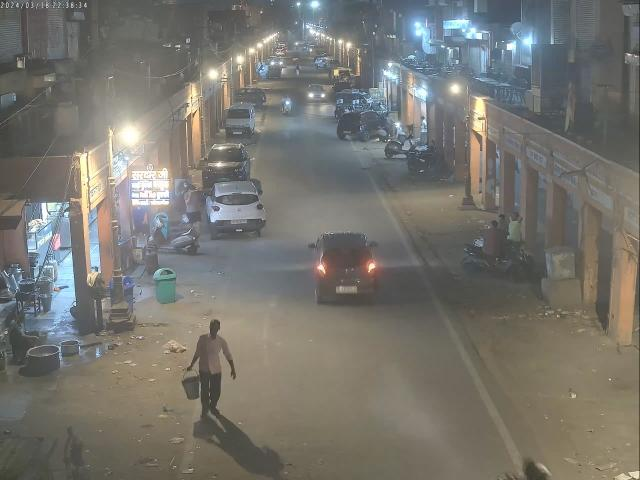car: (313, 234, 382, 306), (207, 182, 266, 240)
person: (198, 315, 234, 415)
scooty: (147, 216, 201, 255)
